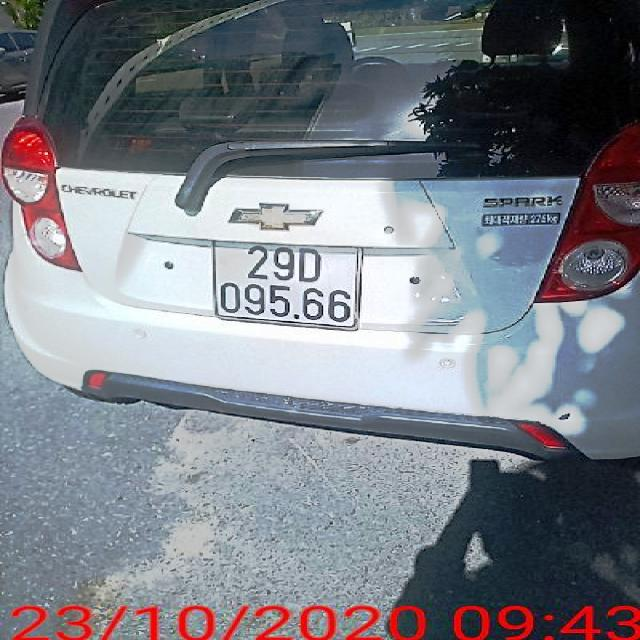license_plate: (215, 240, 366, 330)
